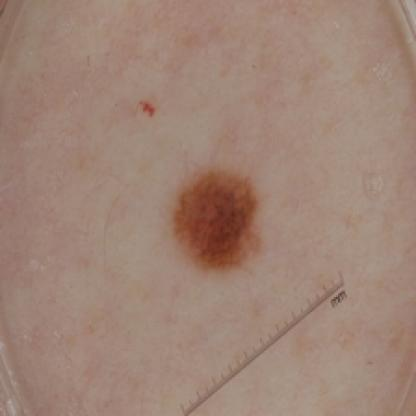Skin_Cancer-Malignant: (170, 166, 265, 272)
